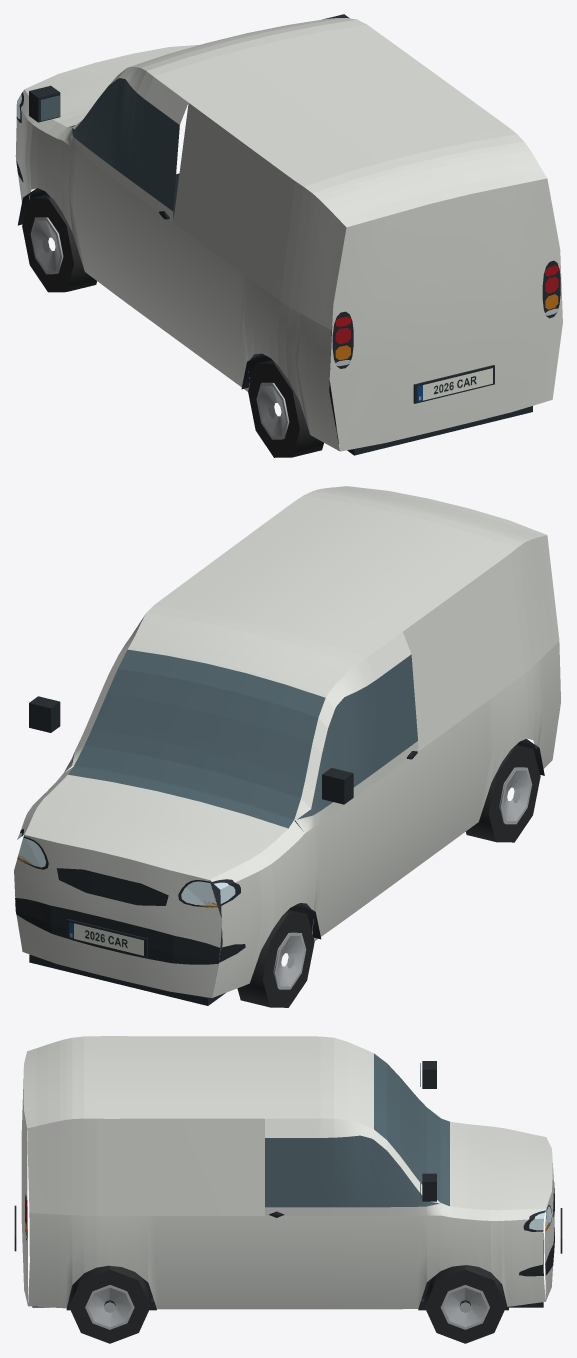
Rendered from Entrega_21_LOD2.glb.
3 renders of one model, top to bottom at view 1: azimuth 30°, elevation 25°; view 2: azimuth 150°, elevation 25°; view 3: azimuth 270°, elevation 25°, orthographic. The views are drawn at different scales.
Visible parts, largest first — view 1: Body, Glass, Wheel_FL, Wheel_RL, Plates; view 2: Body, Glass, Wheel_FL, Wheel_RL, Headlights, Plates; view 3: Body, Glass, Wheel_FR, Wheel_RR.
Part boxes in pixels (x1=…): Body: x1=15, y1=14, x2=562, y2=455; Glass: x1=40, y1=78, x2=179, y2=211; Wheel_FL: x1=22, y1=194, x2=96, y2=292; Wheel_RL: x1=248, y1=360, x2=323, y2=457; Plates: x1=417, y1=368, x2=492, y2=401; Body: x1=14, y1=486, x2=560, y2=1005; Glass: x1=68, y1=649, x2=417, y2=828; Wheel_FL: x1=237, y1=909, x2=314, y2=1007; Wheel_RL: x1=466, y1=744, x2=540, y2=842; Headlights: x1=17, y1=833, x2=235, y2=905; Plates: x1=69, y1=922, x2=143, y2=955; Body: x1=14, y1=1036, x2=562, y2=1310; Glass: x1=265, y1=1053, x2=449, y2=1207; Wheel_FR: x1=424, y1=1265, x2=506, y2=1343; Wheel_RR: x1=69, y1=1265, x2=150, y2=1343.
Size of the model in its own units: 2.1 by 1.81 by 4.02.
Materials: 10 (1 with a texture image).
